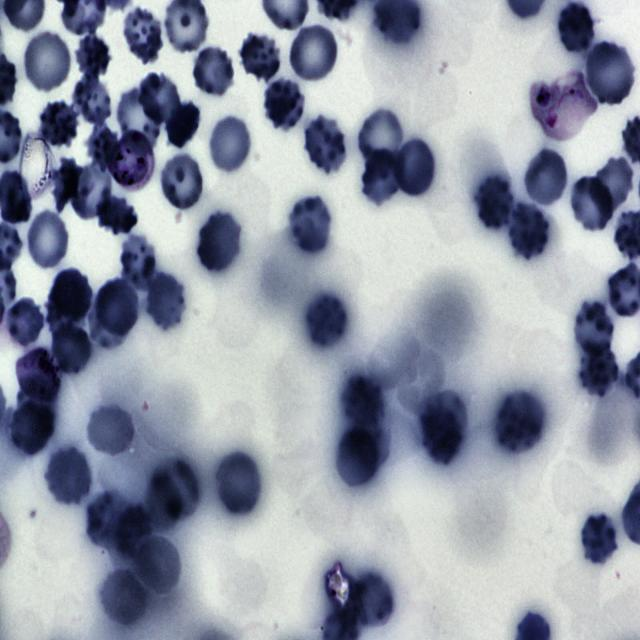red blood cell: (492, 387, 547, 457), (332, 419, 382, 491), (584, 41, 636, 108), (356, 107, 406, 176), (21, 28, 74, 93), (286, 22, 341, 84), (214, 450, 263, 519), (419, 395, 464, 468), (195, 209, 243, 275), (44, 443, 92, 508), (9, 393, 56, 459), (132, 536, 182, 598), (157, 151, 206, 213), (522, 147, 570, 209), (24, 208, 71, 271), (392, 136, 438, 200), (287, 194, 334, 256), (302, 114, 349, 176), (86, 401, 136, 459), (568, 174, 617, 233), (144, 268, 188, 333), (506, 199, 552, 261), (154, 458, 199, 520), (360, 147, 406, 207), (96, 275, 140, 337), (573, 299, 615, 363), (120, 6, 166, 64), (304, 292, 349, 351), (116, 87, 160, 147), (46, 270, 91, 328), (576, 342, 620, 400), (473, 173, 515, 233), (590, 156, 634, 213), (262, 78, 308, 132), (190, 45, 236, 98), (88, 290, 130, 348), (349, 573, 394, 626), (71, 73, 114, 128), (211, 116, 251, 175), (140, 70, 180, 129), (237, 32, 283, 83), (49, 318, 92, 372), (101, 572, 144, 626), (578, 512, 620, 567), (70, 162, 110, 219), (5, 296, 46, 350), (343, 376, 384, 429), (146, 472, 182, 532), (86, 491, 120, 554), (96, 187, 138, 235), (122, 232, 157, 288), (115, 503, 152, 555), (38, 100, 77, 149), (558, 0, 593, 54), (86, 122, 123, 173), (52, 157, 82, 215), (167, 98, 202, 147), (72, 35, 110, 77)
schizont: (104, 129, 156, 194)
trophozoite: (530, 70, 597, 140), (16, 345, 62, 405)
